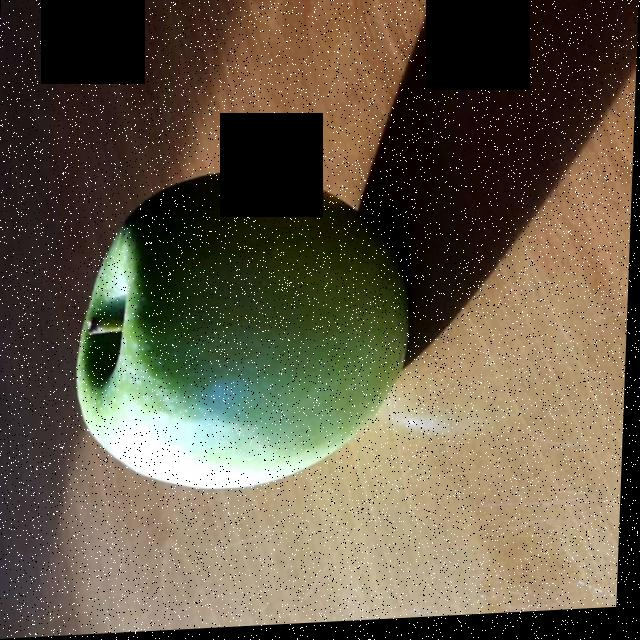apple: (85, 184, 407, 484)
